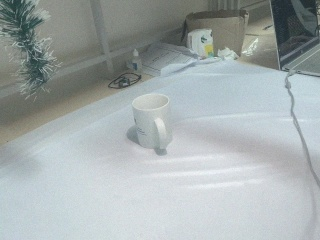cup: (125, 92, 175, 154)
